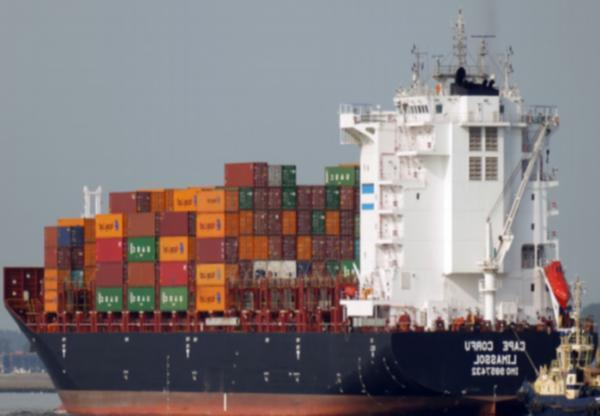Container Ship: (1, 7, 595, 415)
